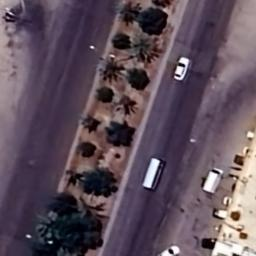others: (142, 156, 166, 192), (202, 168, 224, 194)
sedan: (172, 56, 190, 81), (156, 245, 182, 256)
